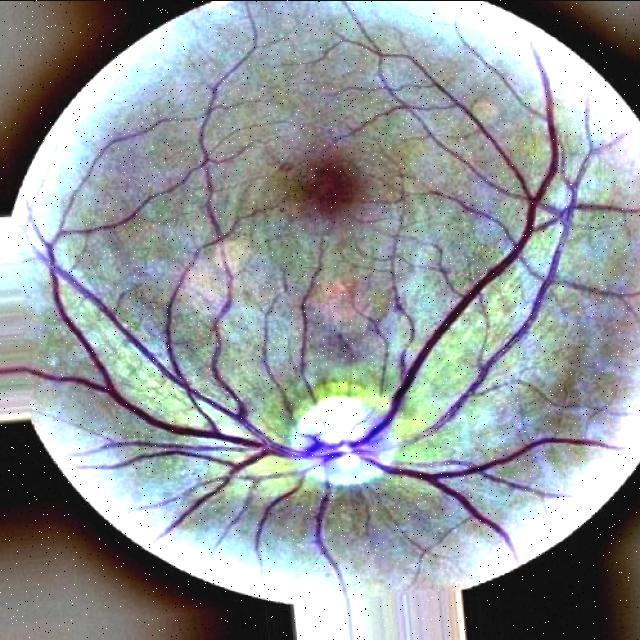Macula: (302, 162, 355, 215)
Nerves: (0, 46, 623, 596), (366, 45, 559, 431), (432, 240, 560, 428), (362, 440, 545, 559), (427, 130, 505, 194)
Optic Disk: (292, 396, 393, 486)
